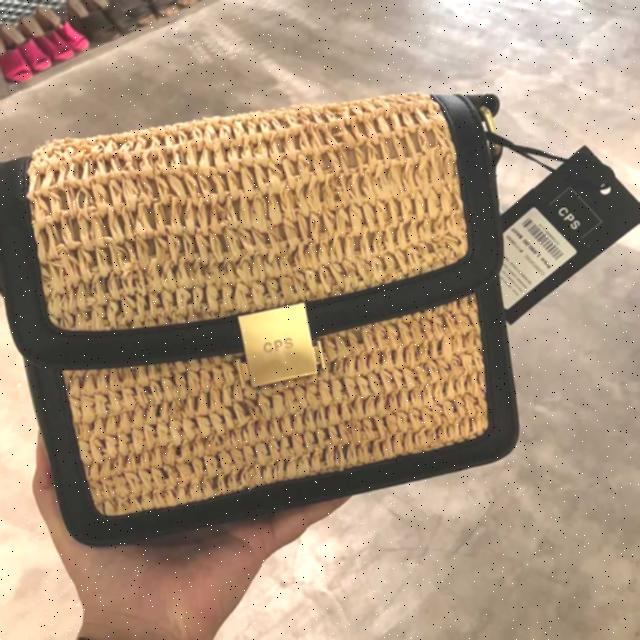handbag: (0, 91, 517, 542)
